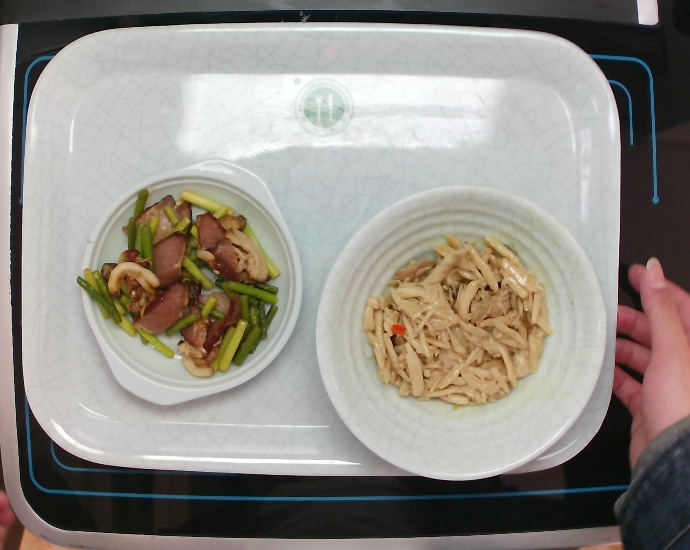JYsf-Shuang_Er_Pan: (79, 155, 308, 410)
JYsf-Xiao_Tang_Wan: (315, 179, 609, 481)
